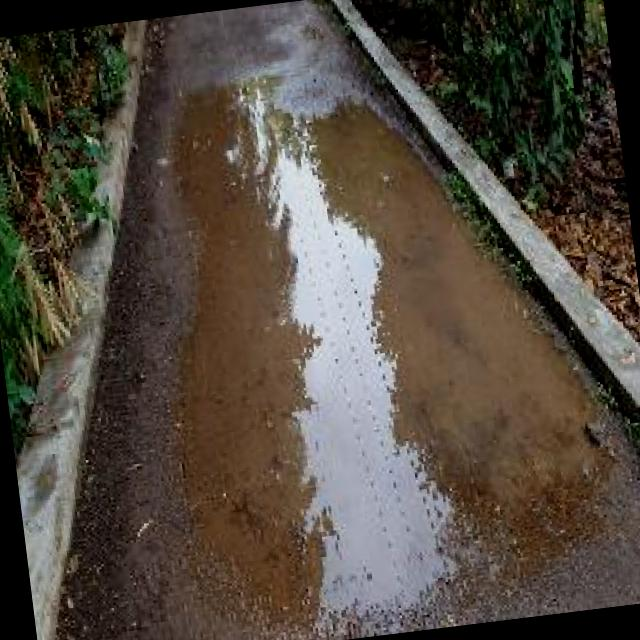stagnation: (159, 61, 501, 640)
